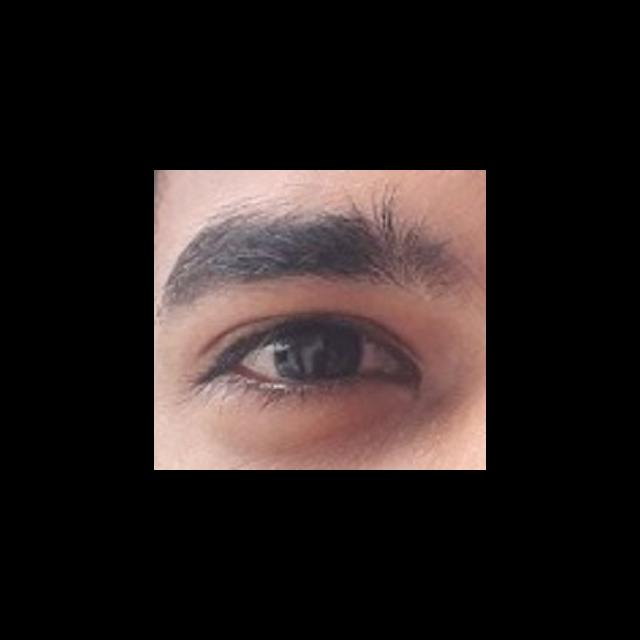eye: (233, 323, 390, 384)
iris: (276, 325, 363, 377)
